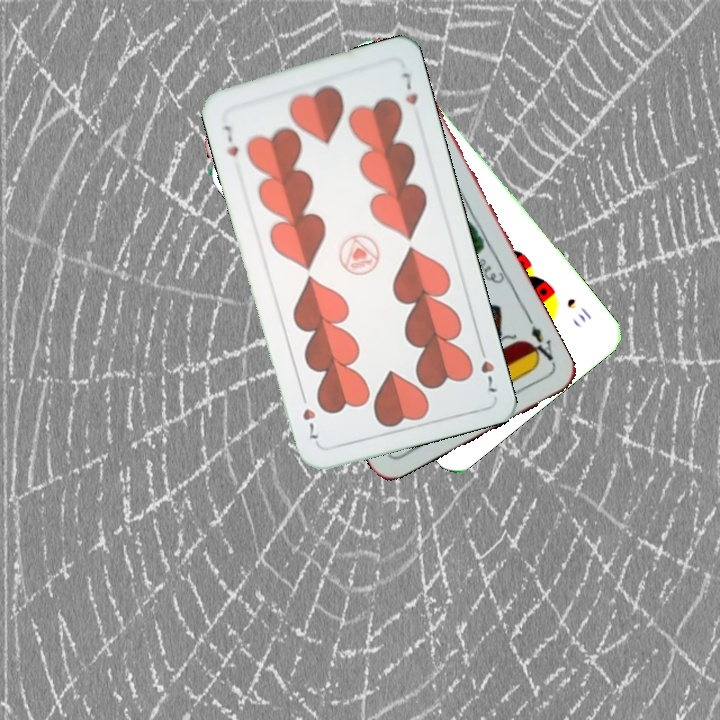EA: (523, 321, 556, 366)
H7: (475, 340, 501, 395), (219, 121, 242, 159)
S10: (562, 294, 595, 325)
